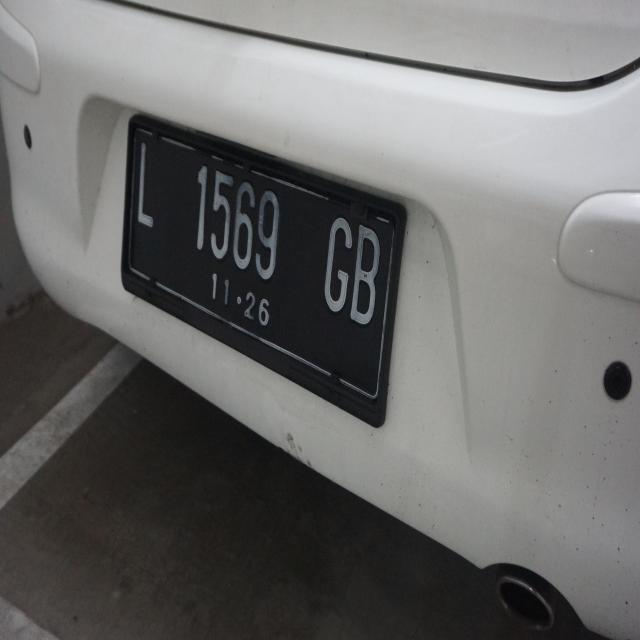1: (181, 160, 209, 258)
5: (208, 157, 232, 271)
6: (230, 174, 257, 274)
9: (252, 176, 282, 290)
B: (348, 214, 378, 330)
G: (318, 205, 353, 322)
L: (129, 136, 159, 240)
